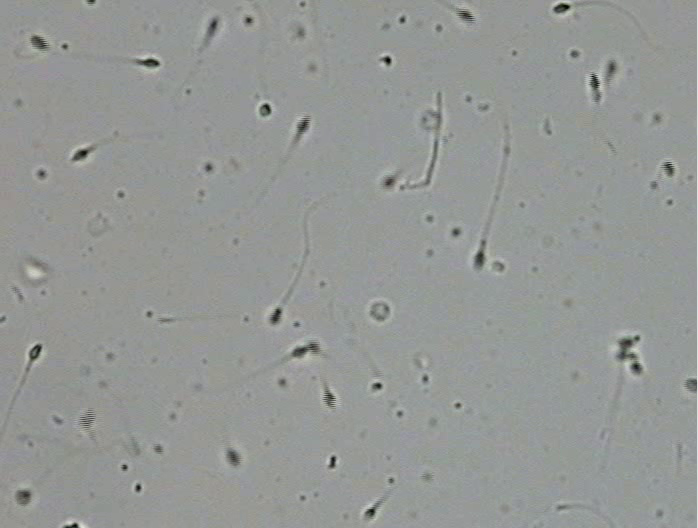Impurity: (369, 302, 390, 322)
S: (616, 336, 632, 361), (29, 34, 50, 52), (79, 409, 96, 430), (456, 8, 475, 24), (322, 390, 337, 410), (296, 115, 311, 134), (225, 449, 240, 467), (15, 490, 32, 505), (136, 58, 161, 68), (207, 17, 219, 37), (305, 339, 321, 354), (661, 161, 675, 178), (588, 72, 600, 90), (72, 149, 88, 162), (269, 308, 282, 324), (29, 344, 42, 360), (684, 378, 697, 394), (474, 251, 485, 269), (292, 346, 308, 357), (553, 3, 570, 13), (259, 103, 271, 117), (605, 61, 615, 77), (364, 507, 376, 520), (630, 362, 643, 374), (382, 176, 394, 188), (85, 1, 96, 6)
